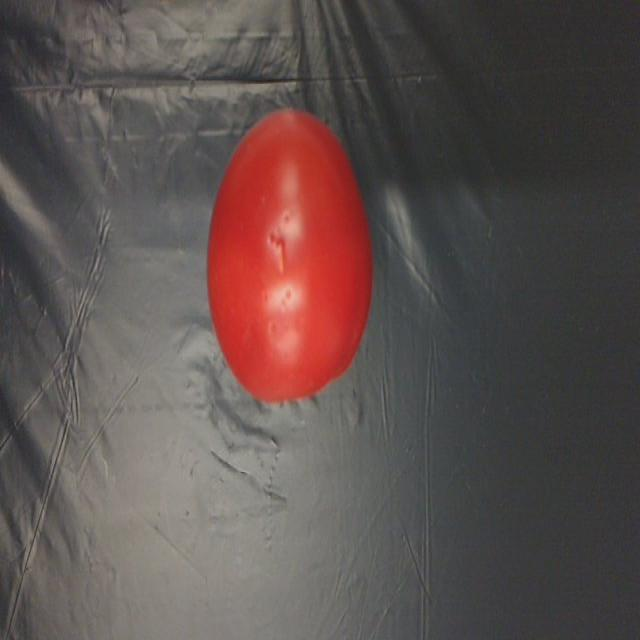kirmizi: (208, 93, 378, 402)
